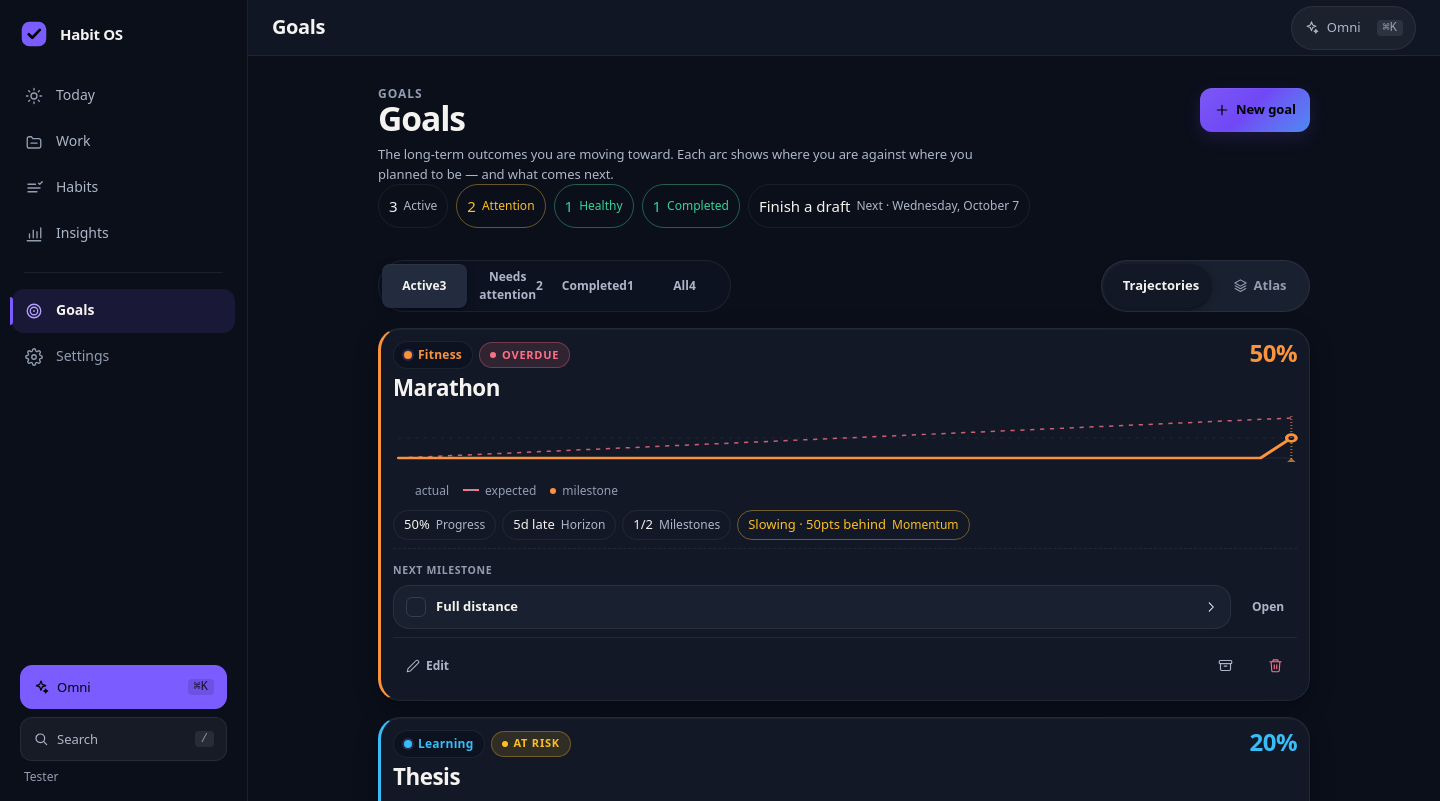
Goals workspace — list-first › filters Active / Needs attention / Completed / All deterministically
Expected: the heading "Goals" is shown, [378,95,465,141]
Click the tab "Completed 1". click: (598, 286)
box: [556,264,640,308]
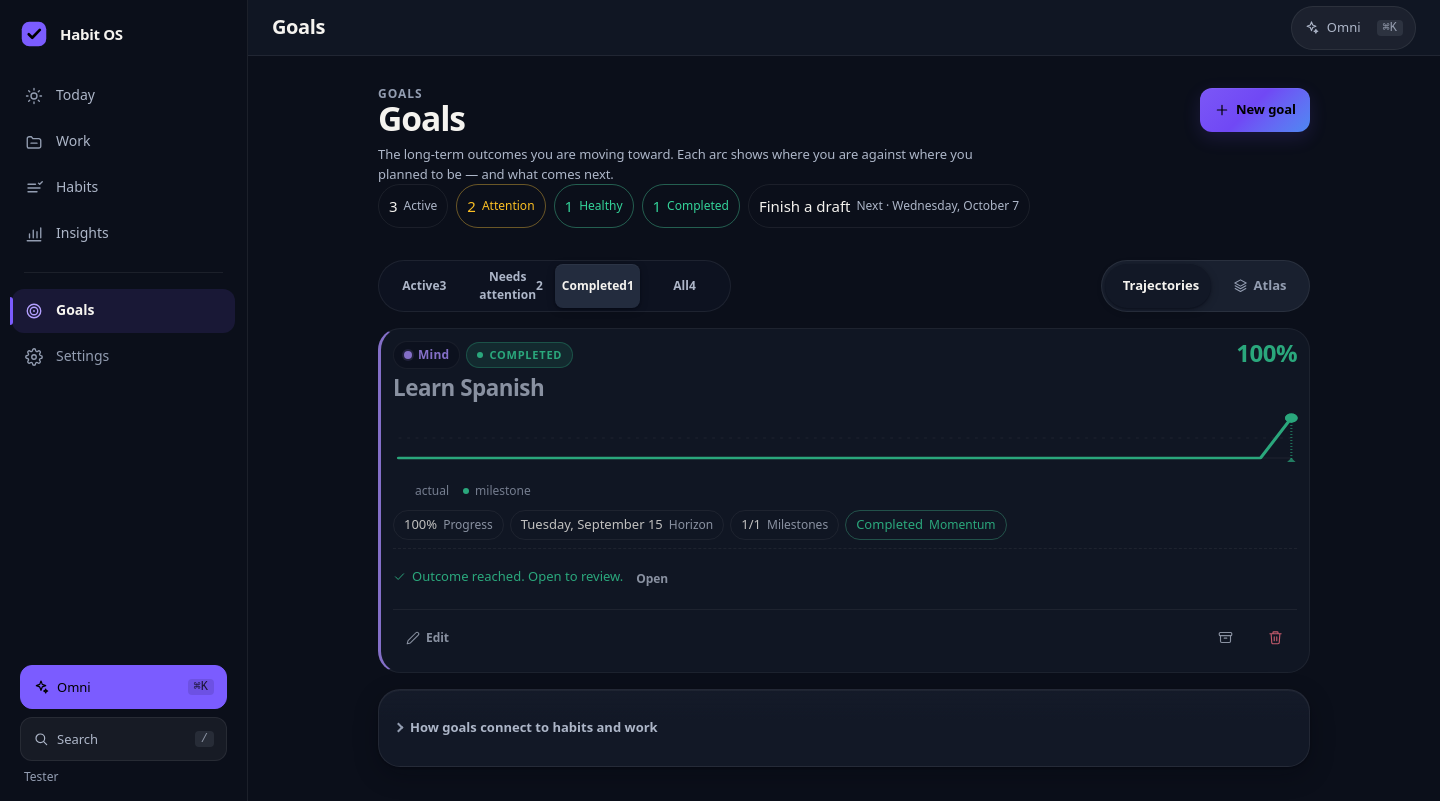
Expected: the heading "Learn Spanish" is shown, [393,372,544,403]
Expected: the link "Thesis" is gone
Note: Needs attention → overdue + at-risk only
Click the tab "Needs attention 2". click: (511, 286)
box: [469,264,553,308]
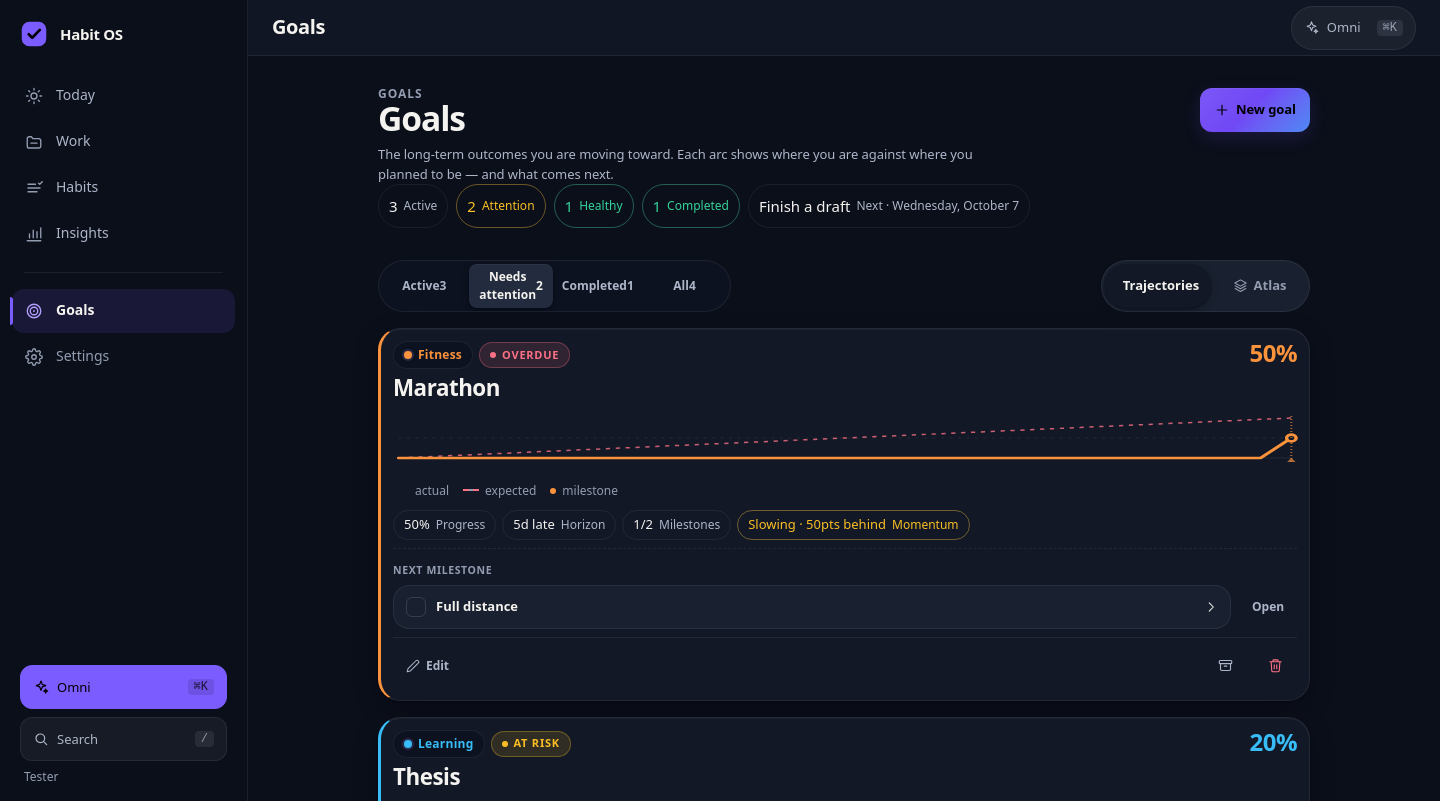
Expected: the text "Write a novella" is not shown
Expected: the heading "Thesis" is shown, [393,760,460,792]
Expected: the link "Marathon" is shown, [393,365,500,412]
Note: All → everything including reached
Click the tab "All 4". click: (685, 286)
box: [642,264,727,308]
(page scrolled)
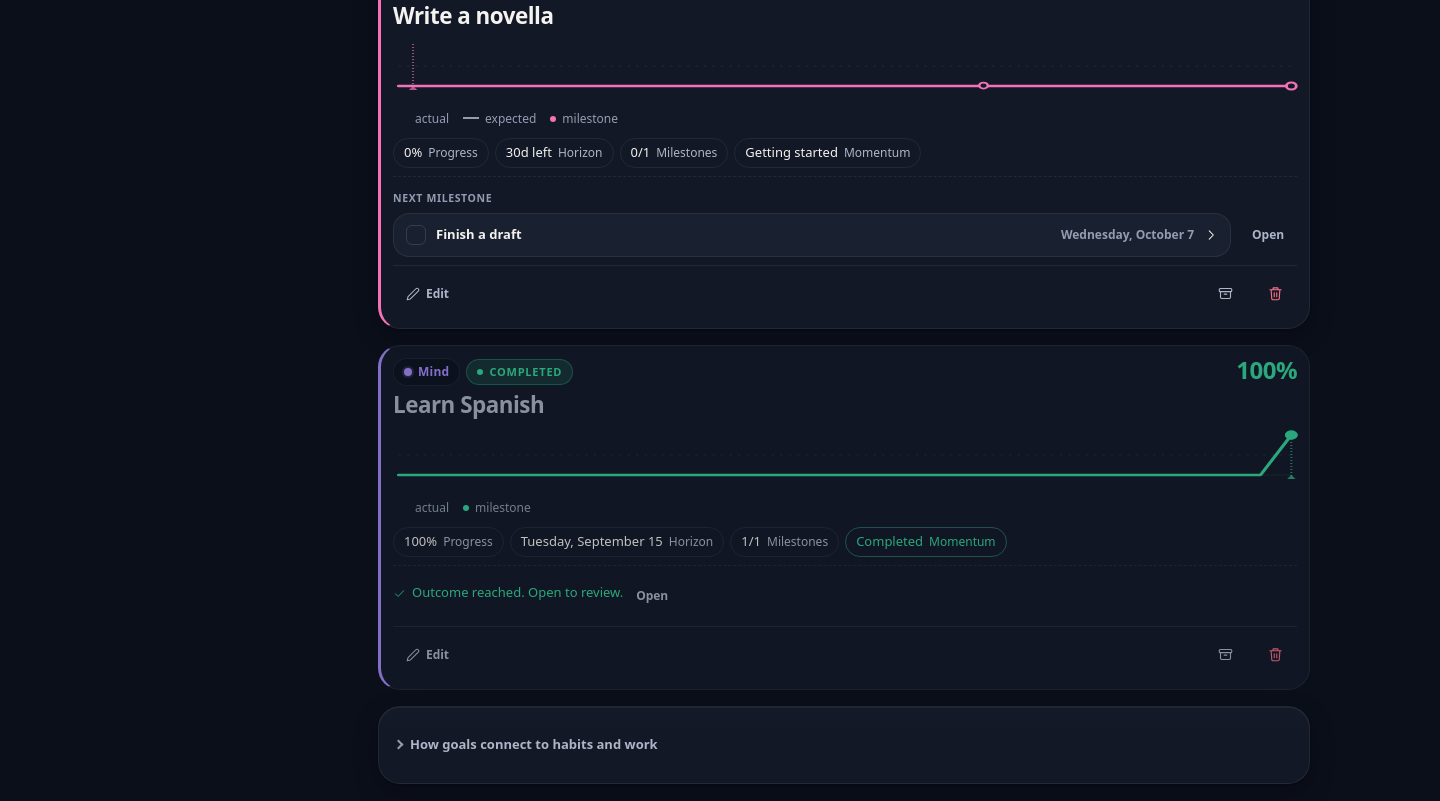
Expected: the heading "Learn Spanish" is shown, [393,389,544,420]
